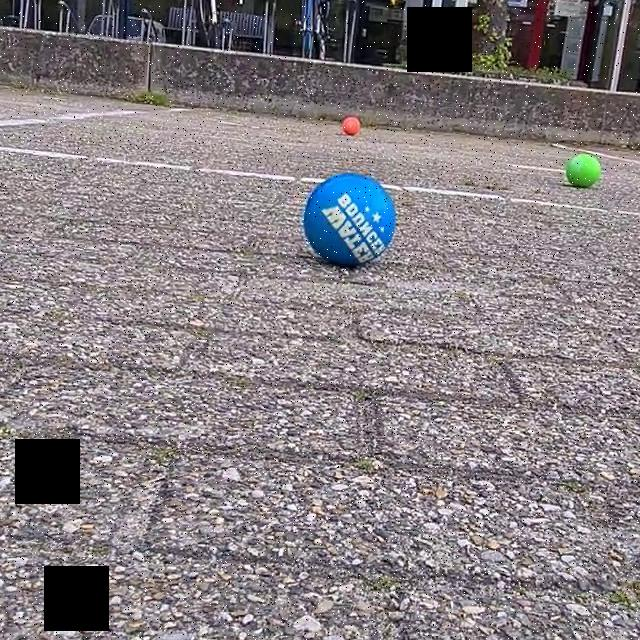ball: (562, 149, 604, 191), (339, 112, 362, 138)
